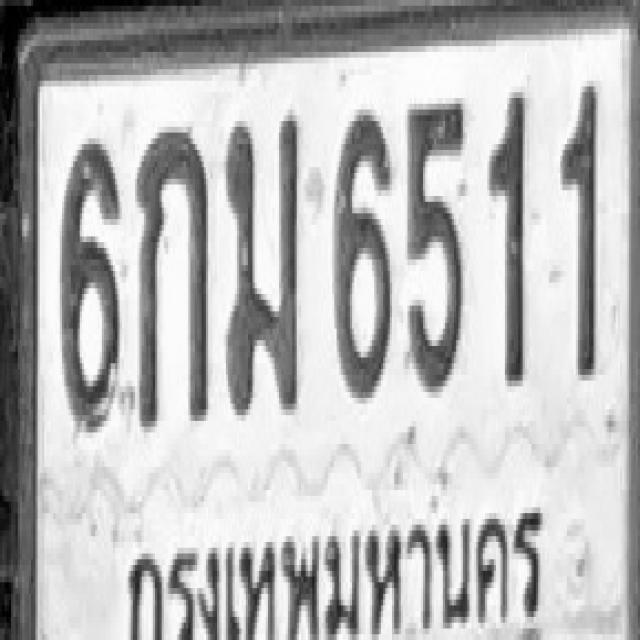1: (486, 92, 526, 386), (559, 80, 597, 374)
10GorGai: (136, 127, 209, 427)
42MorMa: (225, 110, 300, 415)
5: (405, 98, 465, 392)
6: (333, 107, 391, 400), (61, 136, 118, 430)
Bangkok: (122, 496, 547, 640)
